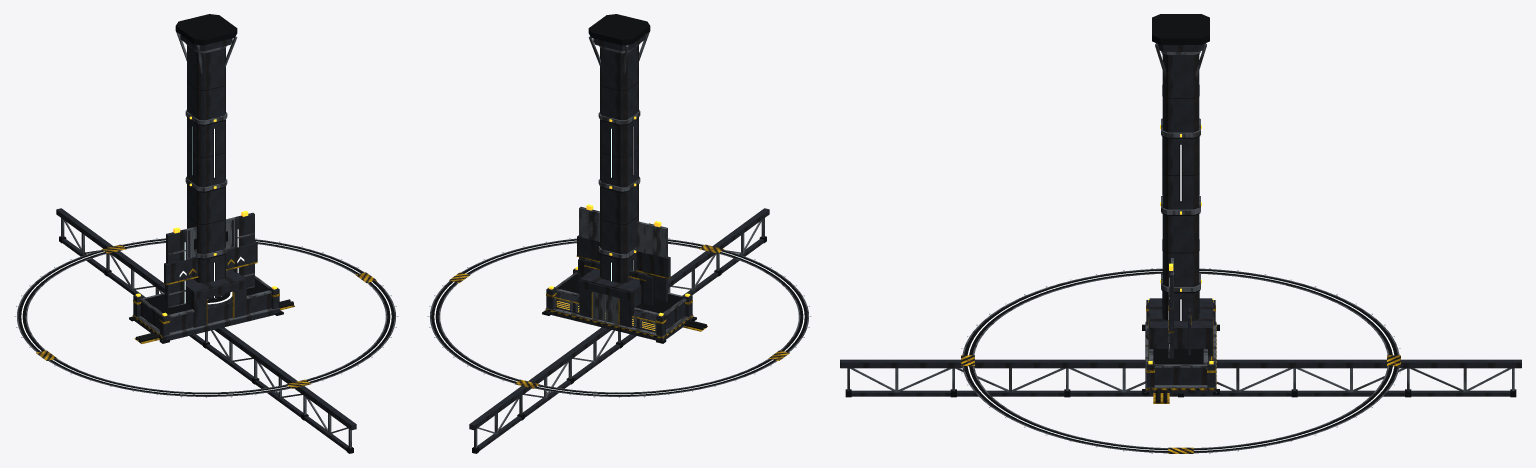
File: end2-floor3-kit.glb
3 views of the same model, side by side, from view 1: azimuth 30°, elevation 25°; view 2: azimuth 150°, elevation 25°; view 3: azimuth 270°, elevation 25° (orthographic). The views are drawn at different scales.
Visible parts, largest first — view 1: q_pylon__q_gun, q_truss__q_gun, q_gate__q_gun, q_inlay__q_dark, q_cradle__q_gun, q_inlay__q_steel, q_pylon__q_dark, q_cab__q_gun, q_truss__q_steel, q_pylon__q_steel, q_inlay__q_glow, q_cradle__q_steel (+3 smaller); view 2: q_pylon__q_gun, q_truss__q_gun, q_inlay__q_dark, q_gate__q_gun, q_inlay__q_steel, q_pylon__q_dark, q_cab__q_gun, q_cradle__q_gun, q_gate__q_steel, q_truss__q_steel, q_cradle__q_steel, q_pylon__q_steel (+4 smaller); view 3: q_truss__q_gun, q_pylon__q_gun, q_inlay__q_dark, q_inlay__q_steel, q_pylon__q_dark, q_truss__q_steel, q_cab__q_gun, q_cradle__q_gun, q_inlay__q_glow, q_pylon__q_steel, q_cradle__q_steel, q_cradle__q_dark.
Boxes of the visible parts, x1,y1,x2,y2 form: q_pylon__q_gun: [180, 35, 232, 299]; q_truss__q_gun: [56, 208, 356, 450]; q_gate__q_gun: [164, 213, 257, 307]; q_inlay__q_dark: [18, 239, 394, 396]; q_cradle__q_gun: [132, 287, 280, 340]; q_inlay__q_steel: [16, 238, 396, 396]; q_pylon__q_dark: [175, 14, 237, 297]; q_cab__q_gun: [185, 269, 246, 327]; q_truss__q_steel: [61, 218, 351, 448]; q_pylon__q_steel: [176, 31, 237, 258]; q_inlay__q_glow: [21, 240, 391, 394]; q_cradle__q_steel: [133, 276, 279, 336]; q_pylon__q_gun: [593, 35, 645, 283]; q_truss__q_gun: [469, 208, 769, 450]; q_inlay__q_dark: [431, 239, 807, 396]; q_gate__q_gun: [577, 207, 670, 305]; q_inlay__q_steel: [429, 238, 809, 396]; q_pylon__q_dark: [588, 14, 650, 281]; q_cab__q_gun: [579, 269, 646, 327]; q_cradle__q_gun: [545, 268, 693, 340]; q_gate__q_steel: [579, 207, 667, 257]; q_truss__q_steel: [474, 218, 764, 448]; q_cradle__q_steel: [546, 272, 692, 336]; q_pylon__q_steel: [588, 31, 649, 258]; q_truss__q_gun: [840, 359, 1521, 396]; q_pylon__q_gun: [1156, 43, 1205, 320]; q_inlay__q_dark: [964, 269, 1397, 452]; q_inlay__q_steel: [962, 268, 1399, 453]; q_pylon__q_dark: [1152, 14, 1209, 320]; q_truss__q_steel: [847, 368, 1514, 392]; q_cab__q_gun: [1148, 298, 1213, 360]; q_cradle__q_gun: [1145, 300, 1216, 393]; q_inlay__q_glow: [967, 271, 1394, 450]; q_pylon__q_steel: [1155, 43, 1206, 291]; q_cradle__q_steel: [1145, 322, 1216, 387]; q_cradle__q_dark: [1142, 324, 1219, 394].
Size of the model in its own units: 31 by 28.72 by 48.
14 materials, 5 textured.
